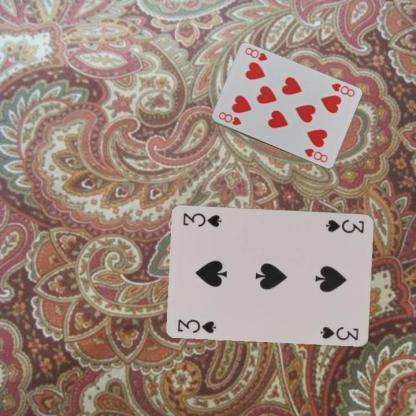3s: (324, 216, 365, 235), (175, 317, 217, 334)
8h: (328, 80, 356, 99), (216, 109, 243, 127)
